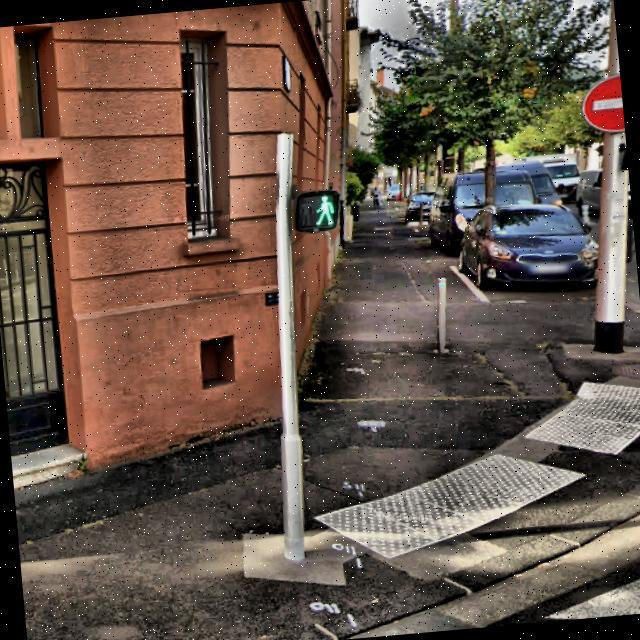green_light: (308, 188, 337, 229)
